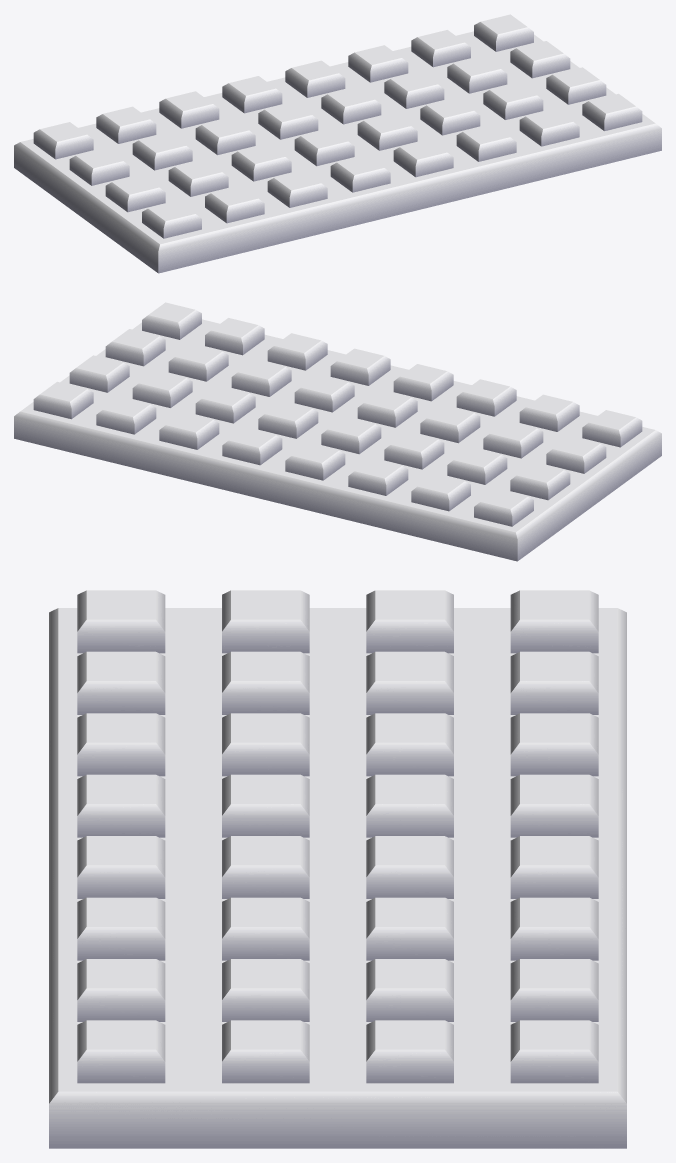
Rendered from square-hq-plate-4x8.glb.
3 views of the same model, one above another, from view 1: azimuth 30°, elevation 25°; view 2: azimuth 150°, elevation 25°; view 3: azimuth 270°, elevation 25° (orthographic). The views are drawn at different scales.
Visible parts, largest first — view 1: square-hq-plate-4x8; view 2: square-hq-plate-4x8; view 3: square-hq-plate-4x8.
Part boxes in pixels (box(x1,y1,x2,y2)): square-hq-plate-4x8: box(14, 14, 661, 273); square-hq-plate-4x8: box(14, 302, 661, 561); square-hq-plate-4x8: box(49, 590, 626, 1148).
Size of the model in its own units: 3.18 by 0.25 by 1.58.
Materials: 1 (1 with a texture image).
